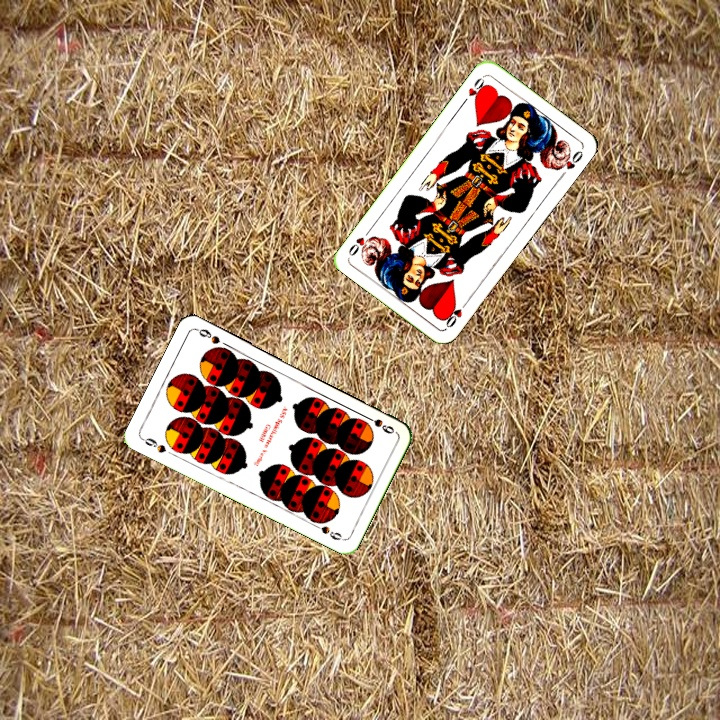HO: (458, 72, 490, 107), (441, 296, 471, 330)
S9: (360, 411, 397, 436), (138, 434, 169, 456)
